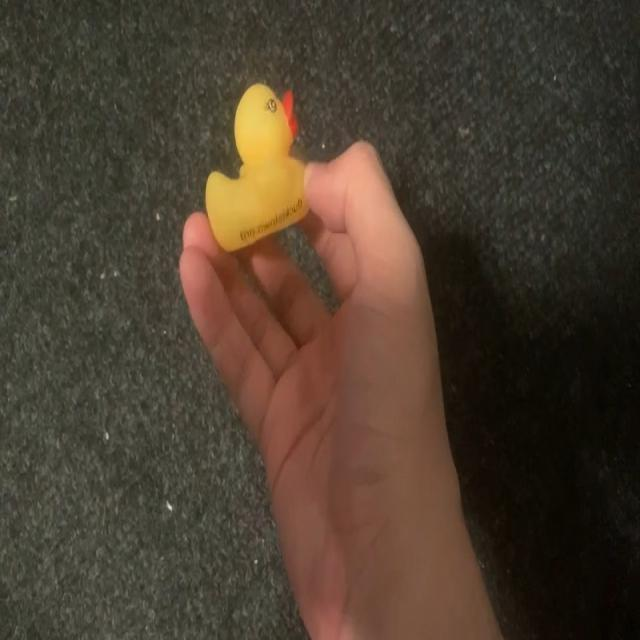rubber-duck: (205, 83, 305, 249)
